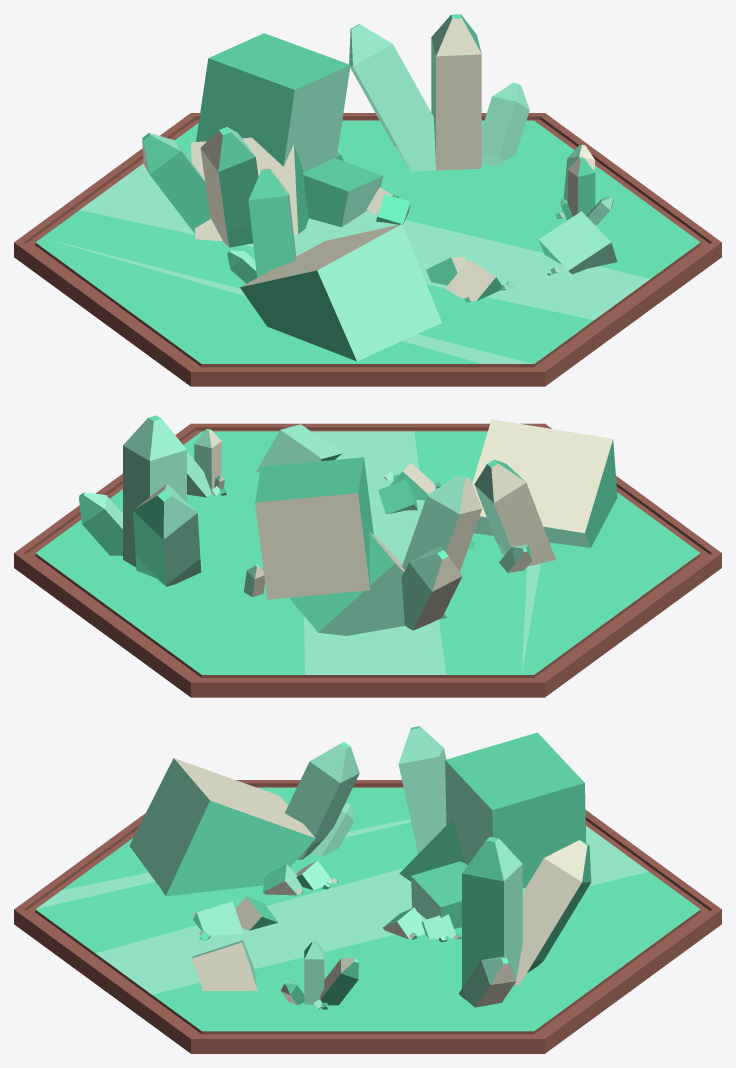
Rendered from Hexagon_Ice.glb.
3 renders of one model, top to bottom at view 1: azimuth 30°, elevation 25°; view 2: azimuth 150°, elevation 25°; view 3: azimuth 270°, elevation 25°, orthographic.
Parts seen in each view (by area): view 1: Circle, Cube.002, Cube.032, Cube.016, Cube.017, Cube.012, Cube.033, Cube.014, Cube.013, Cube.007, Cube.018, Cube (+5 smaller); view 2: Circle, Cube.032, Cube.002, Cube, Cube.017, Cube.016, Cube.014, Cube.012, Cube.013, Cube.007, Cube.018, Cube.008 (+5 smaller); view 3: Circle, Cube.002, Cube.032, Cube.016, Cube.017, Cube.014, Cube.012, Cube.033, Cube.007, Cube.018, Cube, Cube.009 (+8 smaller).
Boxes of the visible parts, box(x1,y1,x2,y2) form: Circle: box(14, 113, 721, 386); Cube.002: box(240, 224, 441, 361); Cube.032: box(196, 33, 350, 171); Cube.016: box(431, 14, 481, 170); Cube.017: box(349, 24, 450, 171); Cube.012: box(200, 127, 258, 247); Cube.033: box(303, 158, 383, 227); Cube.014: box(248, 169, 296, 277); Cube.013: box(142, 133, 210, 233); Cube.007: box(538, 211, 617, 274); Cube.018: box(481, 82, 529, 166); Cube: box(191, 137, 308, 241); Circle: box(14, 423, 721, 697); Cube.032: box(255, 457, 373, 599); Cube.002: box(472, 419, 617, 547); Cube: box(289, 532, 447, 635); Cube.017: box(133, 484, 201, 586); Cube.016: box(123, 415, 186, 566); Cube.014: box(474, 459, 555, 566); Cube.012: box(402, 473, 481, 571); Cube.013: box(401, 546, 462, 630); Cube.007: box(256, 424, 342, 472); Cube.018: box(79, 492, 122, 555); Cube.008: box(194, 428, 221, 490); Circle: box(14, 780, 721, 1053); Cube.002: box(129, 758, 315, 896); Cube.032: box(445, 732, 586, 888); Cube.016: box(462, 836, 522, 988); Cube.017: box(515, 840, 591, 985); Cube.014: box(285, 742, 359, 860); Cube.012: box(398, 726, 446, 853); Cube.033: box(411, 861, 467, 928); Cube.007: box(192, 940, 257, 990); Cube.018: box(458, 956, 515, 1007); Cube: box(399, 819, 525, 892); Cube.009: box(319, 958, 358, 1005).
Bounding box in the file's own units: 30.17 × 8.6 × 34.84.
2 materials, 2 textured.
